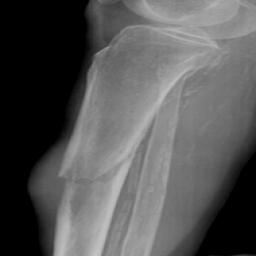cancer: (29, 130, 140, 247)
